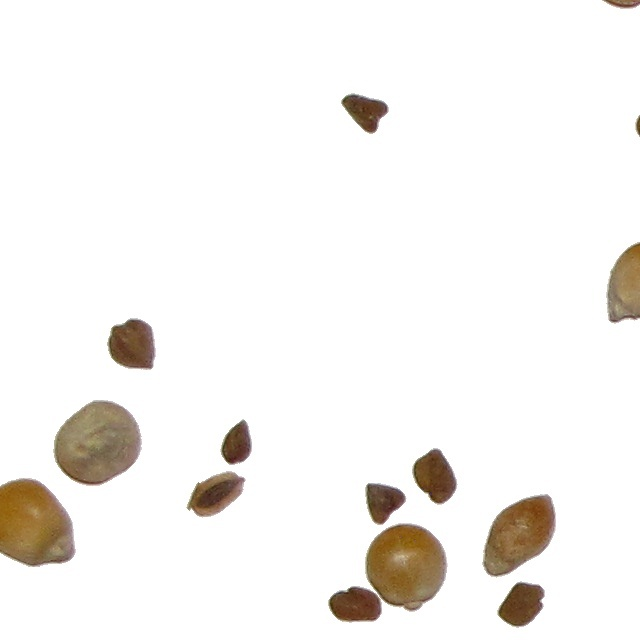buckwheat: (185, 470, 247, 519), (411, 447, 459, 506), (106, 317, 157, 371), (496, 580, 546, 629), (327, 585, 383, 624), (340, 92, 390, 135), (364, 482, 408, 526), (219, 418, 253, 466), (634, 96, 640, 146)
mais: (52, 399, 143, 487), (364, 522, 449, 613), (481, 493, 557, 579), (605, 239, 640, 323)
